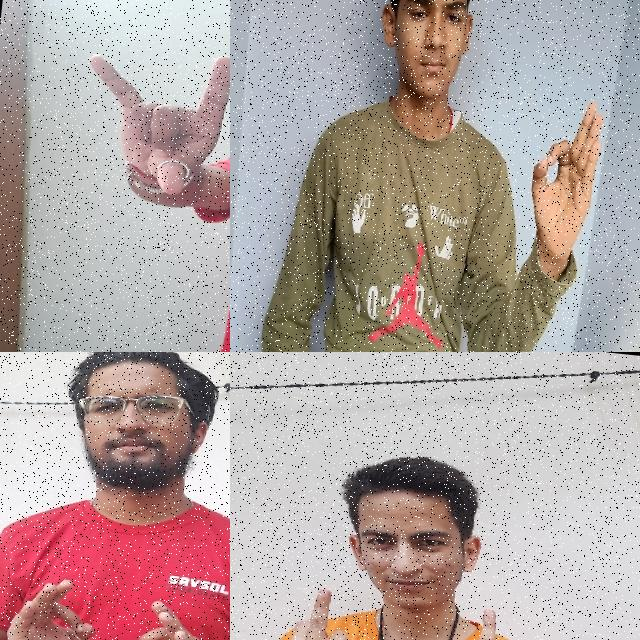Corna: (64, 40, 230, 219)
Middle Finger: (278, 578, 366, 640), (433, 594, 536, 640)
Okay: (514, 96, 612, 286), (0, 565, 99, 640), (114, 583, 225, 640)
